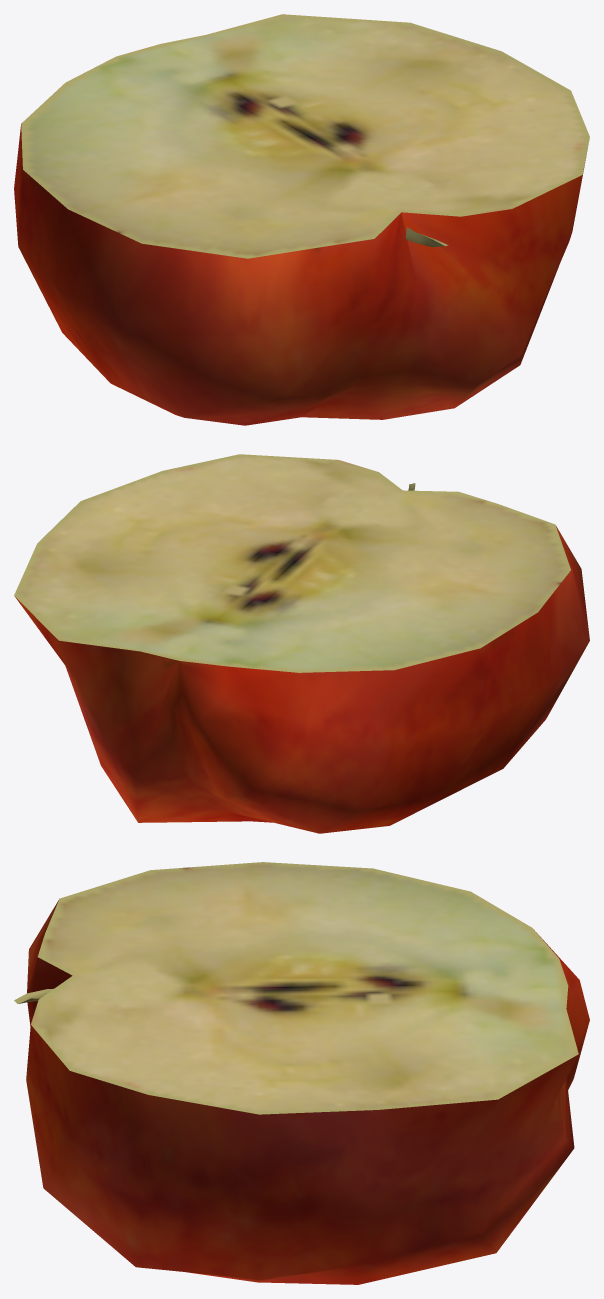
The model's file is apple_part_1.FBX.
3 renders of one model, top to bottom at view 1: azimuth 30°, elevation 25°; view 2: azimuth 150°, elevation 25°; view 3: azimuth 270°, elevation 25°, orthographic. The views are drawn at different scales.
Parts seen in each view (by area): view 1: apple_part_1; view 2: apple_part_1; view 3: apple_part_1.
Boxes of the visible parts, bbox=[...] form: apple_part_1: bbox=[14, 14, 589, 425]; apple_part_1: bbox=[14, 454, 589, 833]; apple_part_1: bbox=[14, 862, 589, 1284].
Size of the model in its own units: 0.1739 by 0.0868 by 0.1666.
